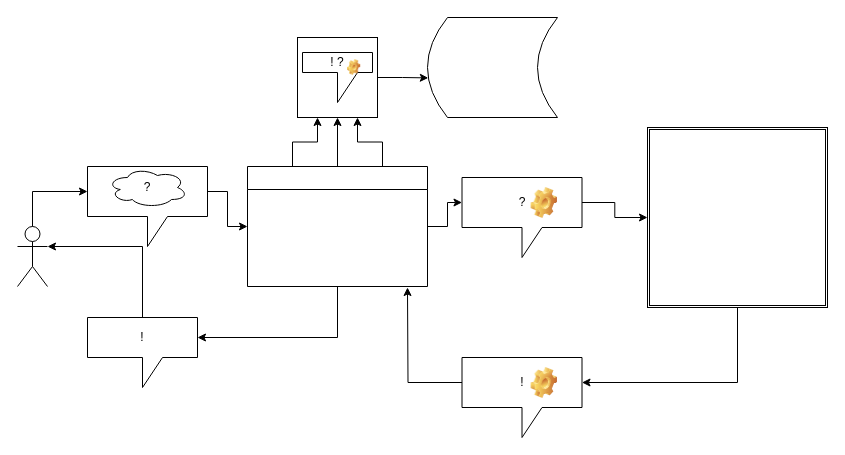
This 845x455 diagram has some shape labels left out. The shapes that lost their labels are listed below. From the top down, each one's centre as x and y in pixels, then its label:
At (x=737, y=217): "ГИГАЧАТ".
At (x=32, y=256): "Actor".
